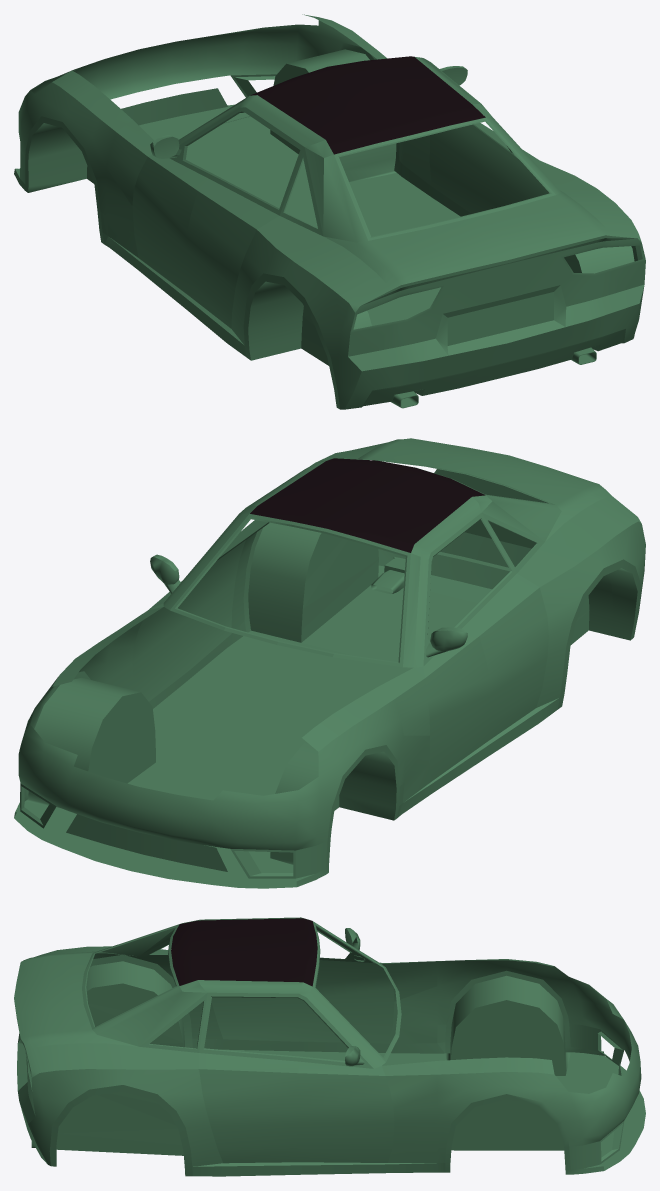
File: KROVFIXED.fbx
3 views of the same model, one above another, from view 1: azimuth 30°, elevation 25°; view 2: azimuth 150°, elevation 25°; view 3: azimuth 270°, elevation 25° (orthographic). The views are drawn at different scales.
Parts seen in each view (by area): view 1: Body, Body.004; view 2: Body, Body.004; view 3: Body, Body.004.
Boxes of the visible parts, x1,y1,x2,y2 form: Body: (14,14,645,409); Body.004: (250,56,485,154); Body: (14,438,645,888); Body.004: (250,458,485,552); Body: (14,917,645,1176); Body.004: (171,918,317,986).
Bounding box in the file's own units: 140 × 84.05 × 288.
